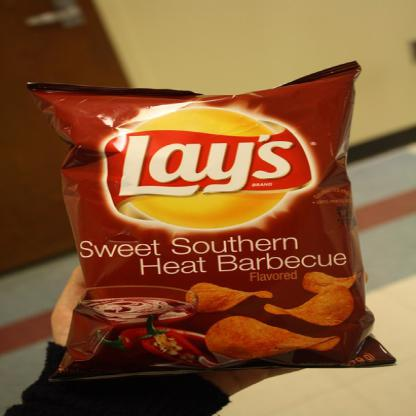potatochip: (17, 56, 402, 377)
